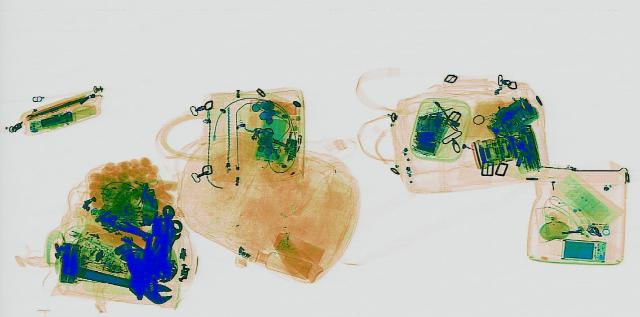Wrench: (49, 257, 184, 305)
